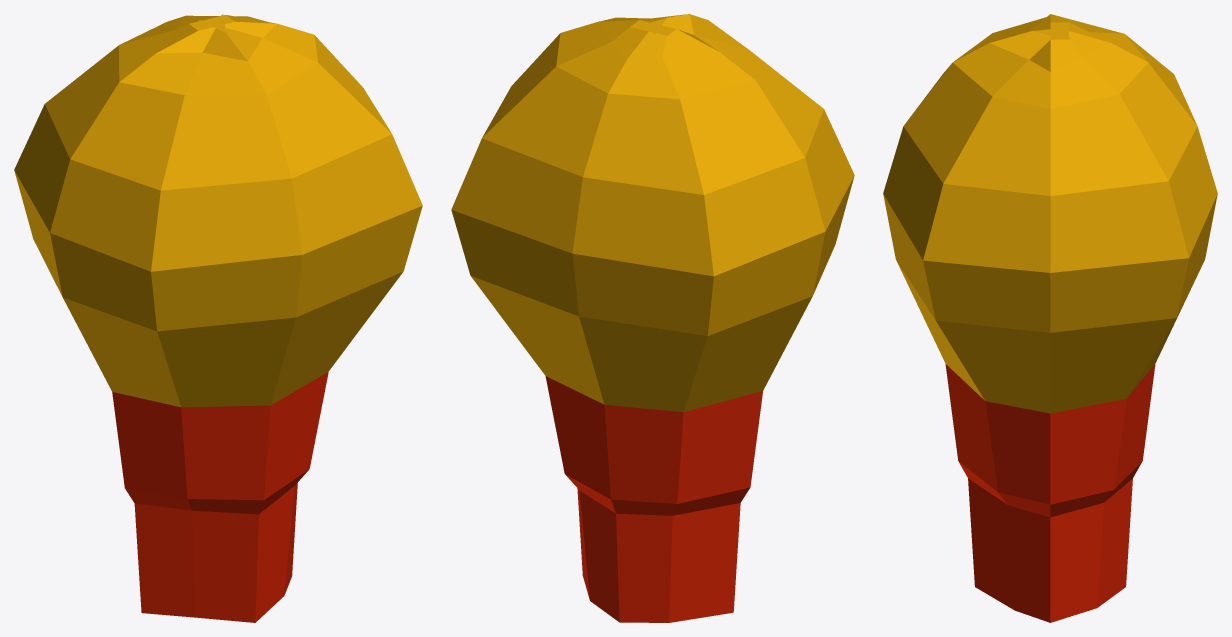
Rendered from Lamp.fbx.
The picture shows the model from 3 angles, left to right: view 1: azimuth 30°, elevation 25°; view 2: azimuth 150°, elevation 25°; view 3: azimuth 270°, elevation 25°; orthographic projection. The views are drawn at different scales.
Visible parts, largest first — view 1: Cube; view 2: Cube; view 3: Cube.
Part boxes in pixels (box(x1,y1,x2,y2)): Cube: box(14, 14, 422, 622); Cube: box(451, 14, 854, 622); Cube: box(883, 14, 1217, 622).
Bounding box in the file's own units: 232 × 378 × 206.
